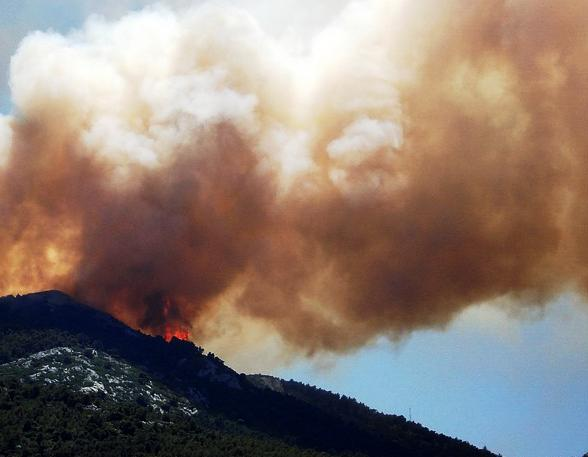fire: (141, 308, 208, 358)
smoke: (3, 45, 588, 345)
